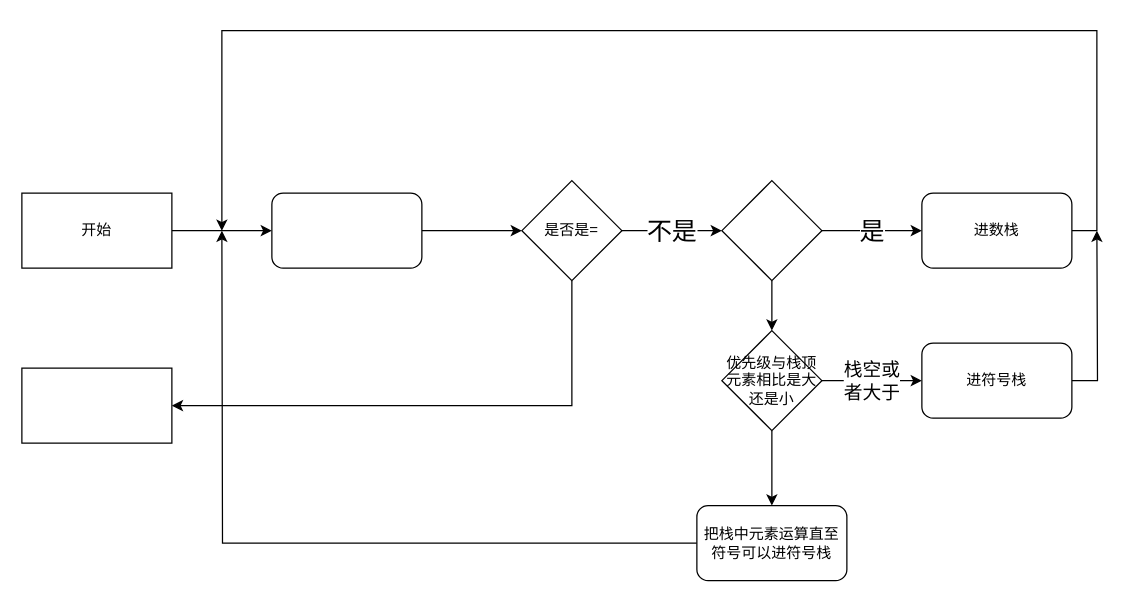
This 1130x603 diagram has some shape labels left out. The centre of each missing label's shape, as x and y in pixels:
"数字和符号进栈" belongs at (346,230).
"是否是符号" belongs at (771,230).
"结束" belongs at (96,405).
